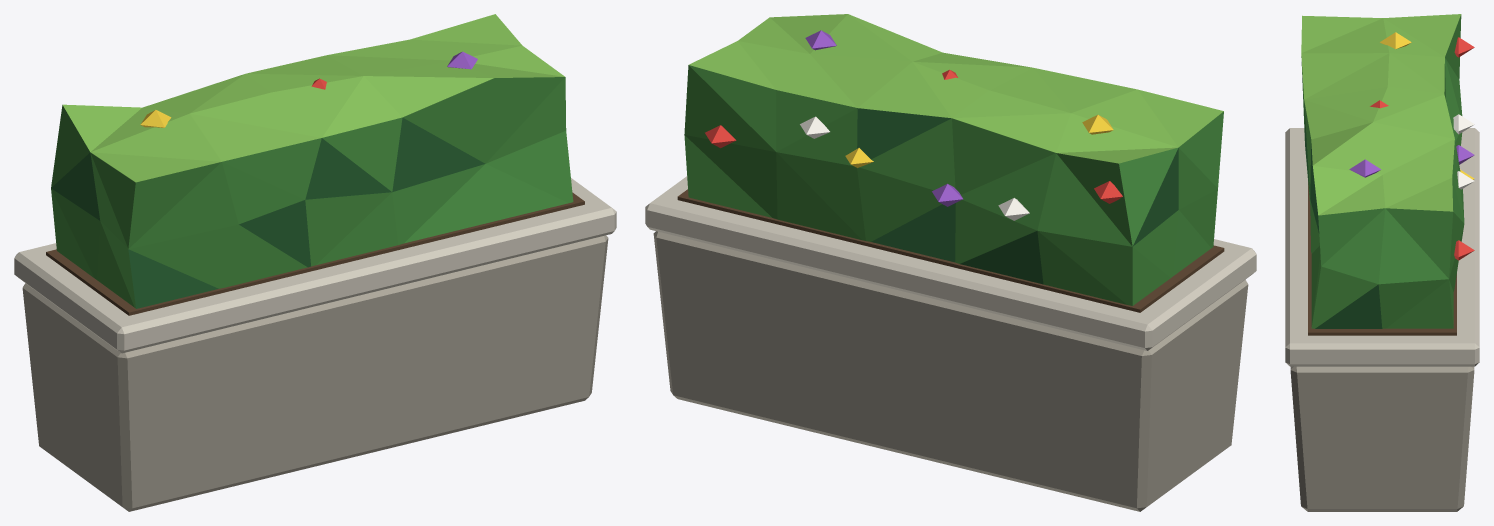
The model's file is prop_planter.glb.
The picture shows the model from 3 angles, left to right: view 1: azimuth 30°, elevation 25°; view 2: azimuth 150°, elevation 25°; view 3: azimuth 270°, elevation 25°; orthographic projection. The views are drawn at different scales.
Visible parts, largest first — view 1: prop_planter__mesh; view 2: prop_planter__mesh; view 3: prop_planter__mesh.
Part boxes in pixels (x1,y1,x2,y2): prop_planter__mesh: (14, 14, 616, 511); prop_planter__mesh: (645, 14, 1256, 511); prop_planter__mesh: (1285, 14, 1479, 511).
Bounding box in the file's own units: 1.6 × 1.06 × 0.6.
Materials: 2 (2 with a texture image).
